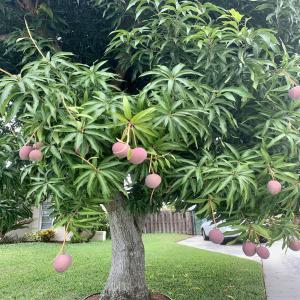Tree: (4, 6, 295, 279)
